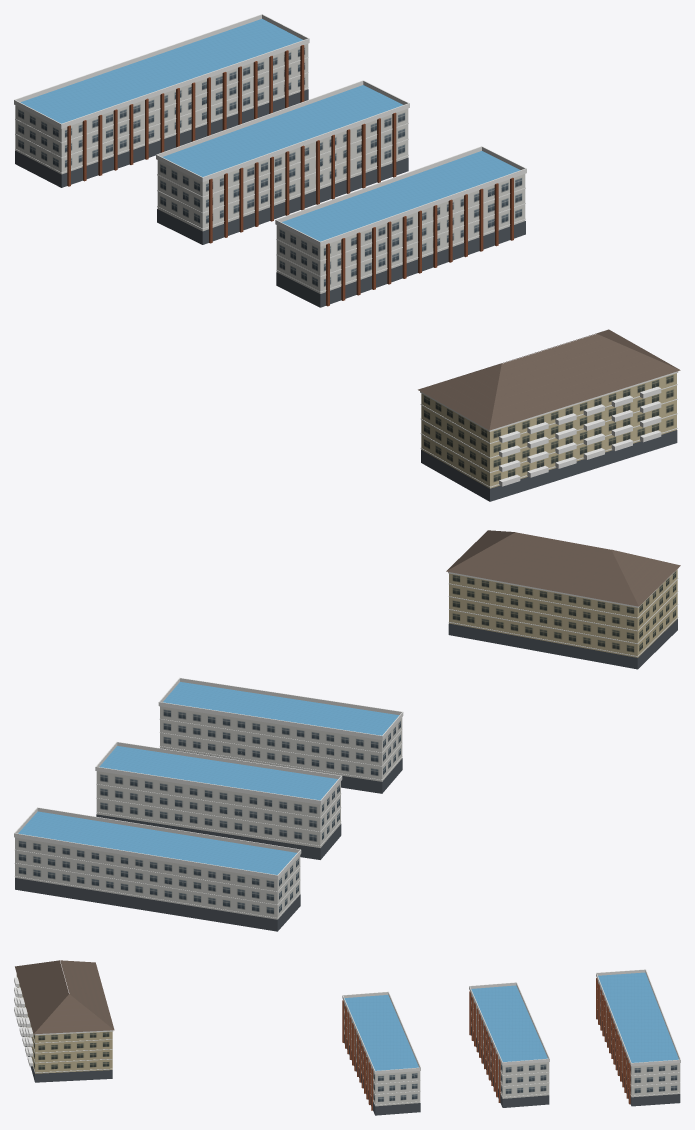
File: dorm_qinyuan_f3.glb
3 renders of one model, top to bottom at view 1: azimuth 30°, elevation 25°; view 2: azimuth 150°, elevation 25°; view 3: azimuth 270°, elevation 25°, orthographic. The views are drawn at different scales.
Visible parts, largest first — view 1: 1114843835, 862952694, 862952695, 862952696; view 2: 1114843835, 862952694, 862952695, 862952696; view 3: 1114843835, 862952694, 862952695, 862952696.
Boxes of the visible parts, x1=… form: 1114843835: x1=418, y1=329, x2=680, y2=501; 862952694: x1=14, y1=14, x2=309, y2=187; 862952695: x1=156, y1=80, x2=409, y2=244; 862952696: x1=275, y1=146, x2=526, y2=307; 1114843835: x1=446, y1=530, x2=680, y2=669; 862952694: x1=14, y1=807, x2=301, y2=931; 862952695: x1=95, y1=742, x2=342, y2=859; 862952696: x1=158, y1=677, x2=403, y2=793; 1114843835: x1=14, y1=960, x2=114, y2=1082; 862952694: x1=596, y1=969, x2=680, y2=1106; 862952695: x1=469, y1=982, x2=549, y2=1107; 862952696: x1=342, y1=991, x2=420, y2=1115.
Bounding box in the file's own units: 72.64 × 22.88 × 196.
5 materials, 4 textured.
